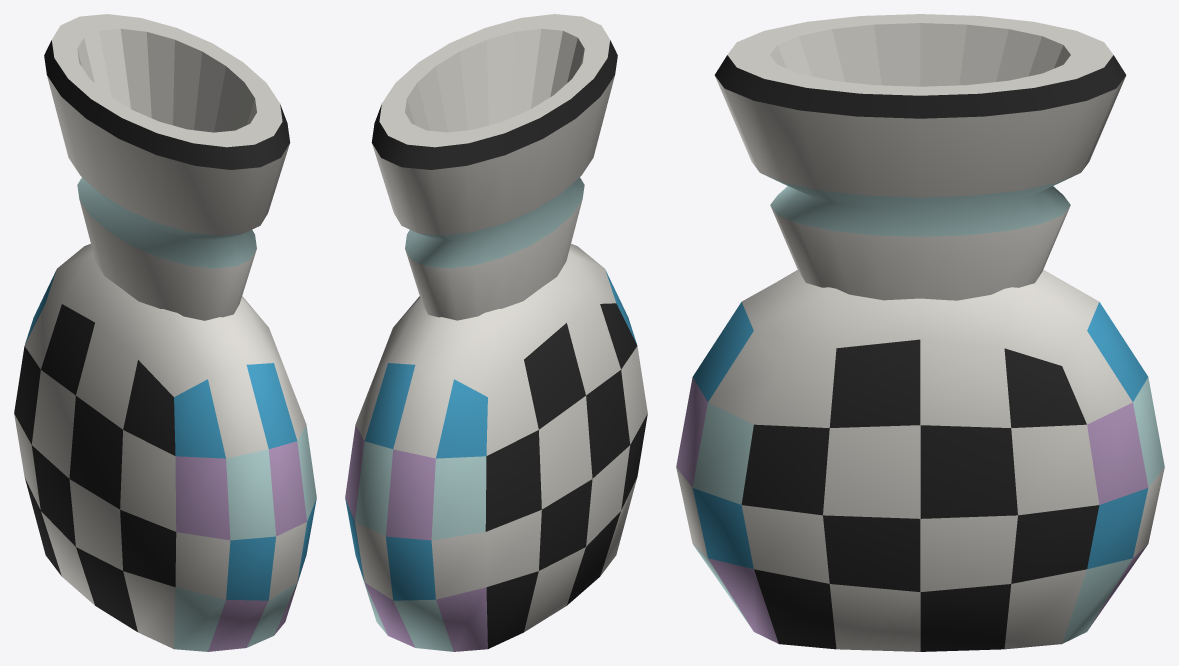
Rendered from VASE3.fbx.
3 views of the same model, side by side, from view 1: azimuth 30°, elevation 25°; view 2: azimuth 150°, elevation 25°; view 3: azimuth 270°, elevation 25° (orthographic). The views are drawn at different scales.
Visible parts, largest first — view 1: VASE3; view 2: VASE3; view 3: VASE3.
Boxes of the visible parts, box(x1,y1,x2,y2) form: VASE3: box(14, 14, 316, 651); VASE3: box(345, 14, 647, 651); VASE3: box(676, 14, 1164, 651).
Bounding box in the file's own units: 2.16 × 5.45 × 4.31.
